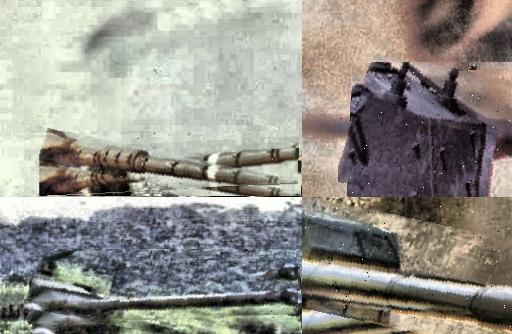tanks: (303, 204, 512, 332), (340, 64, 512, 198), (26, 250, 300, 323), (40, 132, 299, 190)
